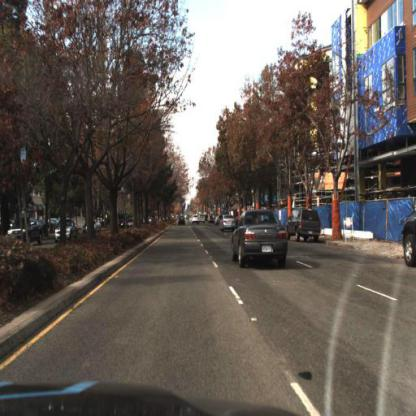car: (230, 207, 290, 271), (285, 205, 325, 245), (53, 218, 80, 243), (219, 212, 236, 234), (177, 211, 187, 228), (192, 212, 202, 228)
